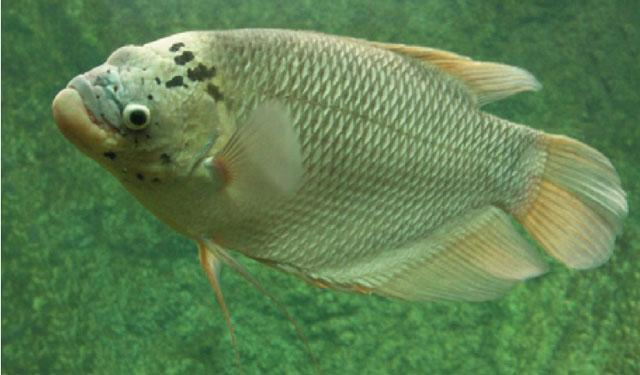Mulut: (38, 61, 120, 158)
Sirip Anal: (319, 206, 556, 318)
Sirip Dada: (190, 93, 320, 233)
Sirip Ekor: (506, 112, 636, 278)
Sirip Punggung: (352, 26, 552, 122)
